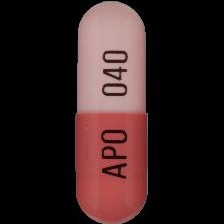69189-0147: (0, 0, 224, 224)
